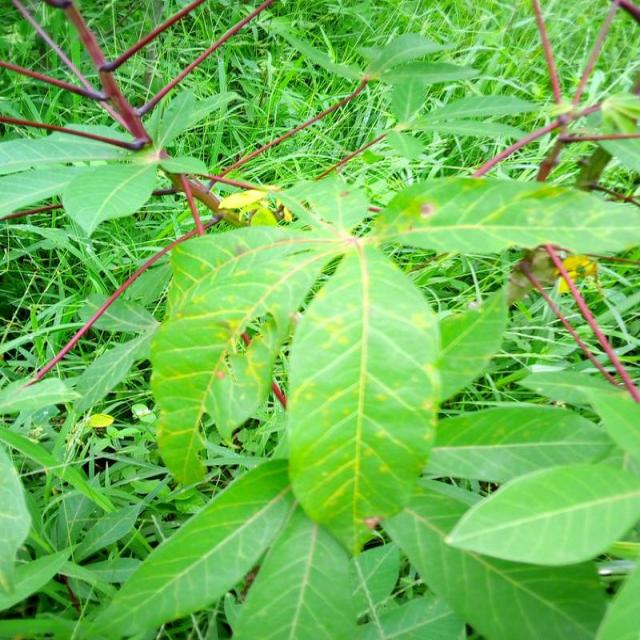cassava leaf: (284, 238, 442, 556), (147, 223, 330, 488), (369, 174, 638, 258), (444, 456, 638, 566)
